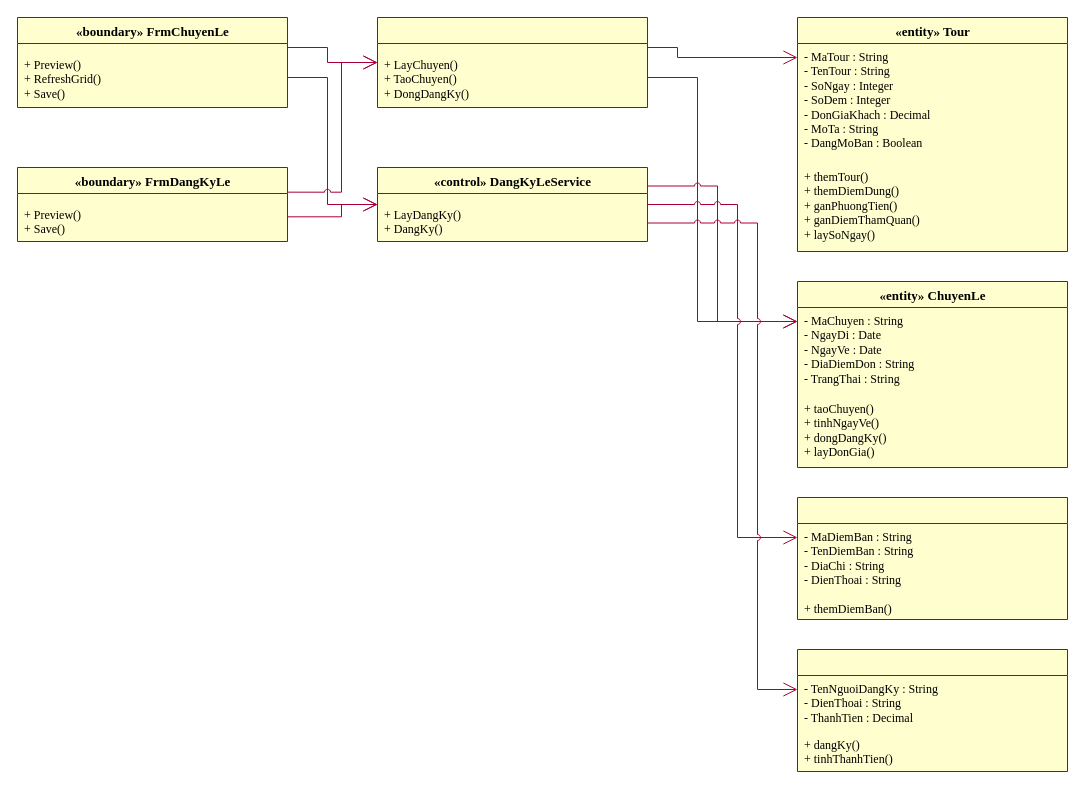
Image size: 1085x792. Some labels were removed from this diagram. Each missing label, with the box of its shape:
«control» ChuyenService: (376, 16, 648, 108)
«entity» DiemBanVe: (796, 496, 1068, 620)
«entity» PhieuDangKyLe: (796, 648, 1068, 772)
